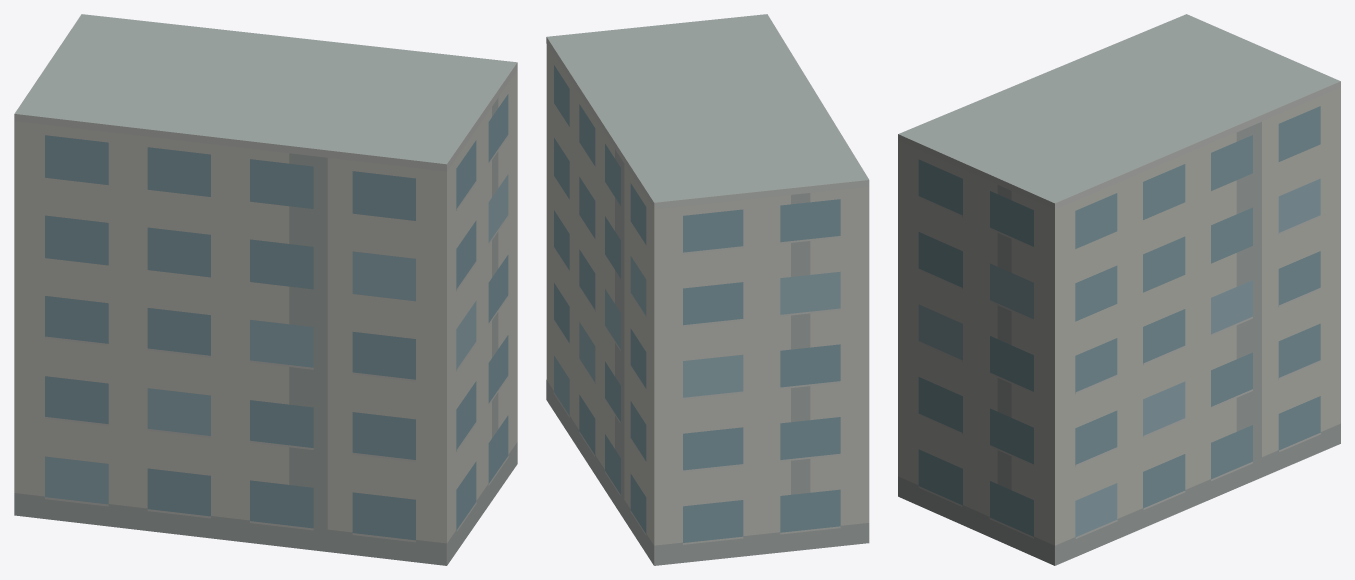
The model's file is survey-upis-32883248.glb.
The picture shows the model from 3 angles, left to right: view 1: azimuth 30°, elevation 25°; view 2: azimuth 150°, elevation 25°; view 3: azimuth 270°, elevation 25°; orthographic projection. The views are drawn at different scales.
Parts seen in each view (by area): view 1: survey-upis-32883248.tmp; view 2: survey-upis-32883248.tmp; view 3: survey-upis-32883248.tmp.
Part boxes in pixels (<box>): survey-upis-32883248.tmp: <box>14,14,517,565</box>; survey-upis-32883248.tmp: <box>546,14,869,565</box>; survey-upis-32883248.tmp: <box>898,14,1340,565</box>.
Size of the model in its own units: 14.91 by 13.3 by 14.73.
